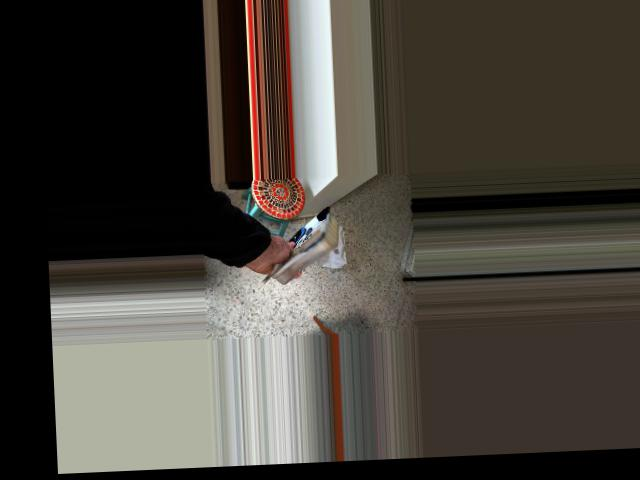cheese: (245, 193, 355, 295)
